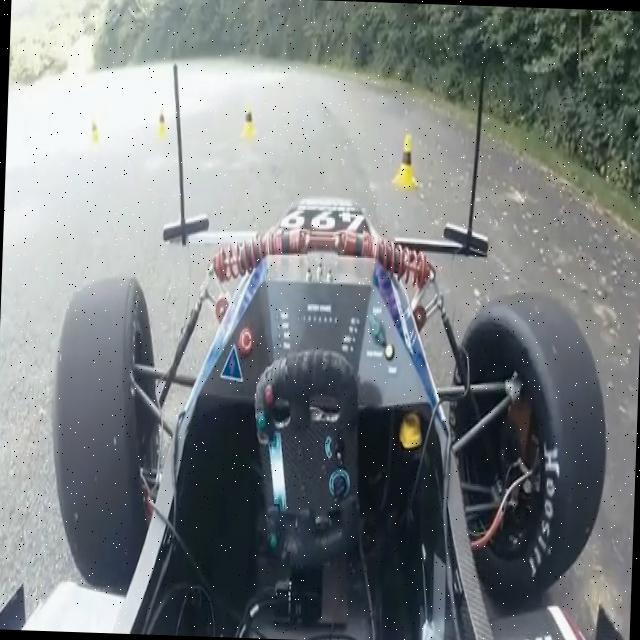yellow_cone: (391, 130, 420, 193), (239, 100, 259, 142), (154, 107, 170, 142)
